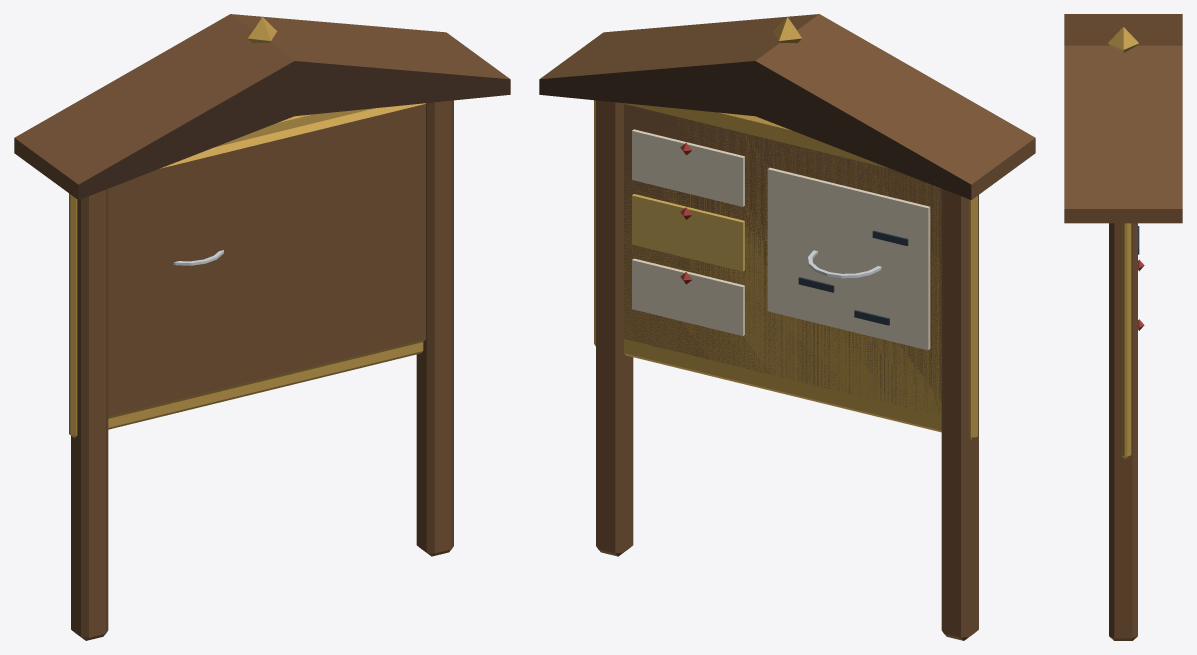
The model's file is HarbourBoard.obj.
3 views of the same model, side by side, from view 1: azimuth 30°, elevation 25°; view 2: azimuth 150°, elevation 25°; view 3: azimuth 270°, elevation 25° (orthographic). The views are drawn at different scales.
Bounding box in the file's own units: 3.5 × 4.46 × 0.9.
